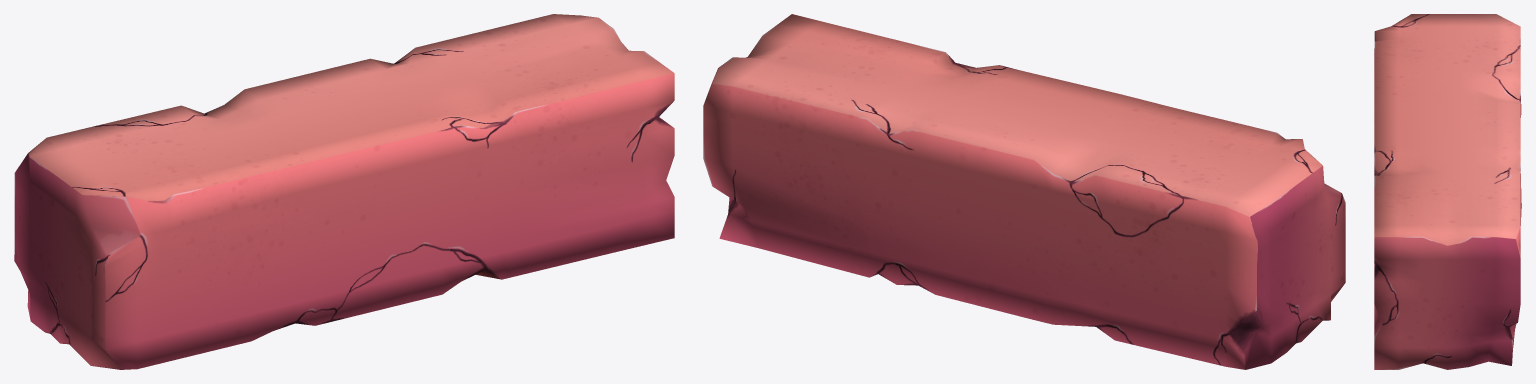
File: rock_long.fbx
The picture shows the model from 3 angles, left to right: view 1: azimuth 30°, elevation 25°; view 2: azimuth 150°, elevation 25°; view 3: azimuth 270°, elevation 25°; orthographic projection. The views are drawn at different scales.
Visible parts, largest first — view 1: Cube.008; view 2: Cube.008; view 3: Cube.008.
Boxes of the visible parts, left/top/right/bottom form: Cube.008: left=14, top=14, right=674, bottom=369; Cube.008: left=703, top=14, right=1345, bottom=369; Cube.008: left=1374, top=14, right=1521, bottom=369.
Bounding box in the file's own units: 484 × 133 × 133.
